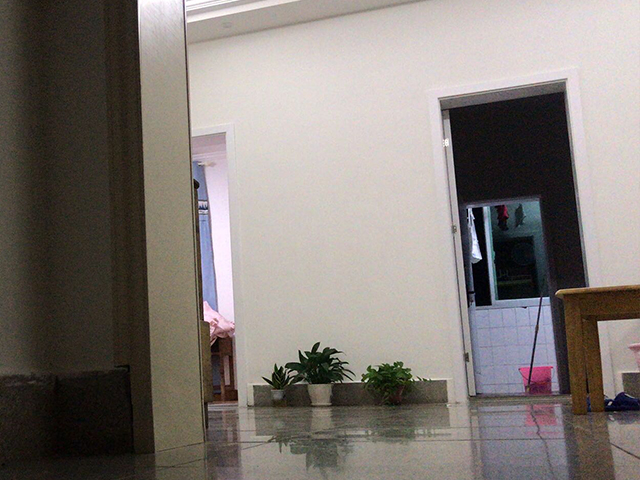slippers: (610, 390, 640, 412)
table: (554, 284, 640, 417)
